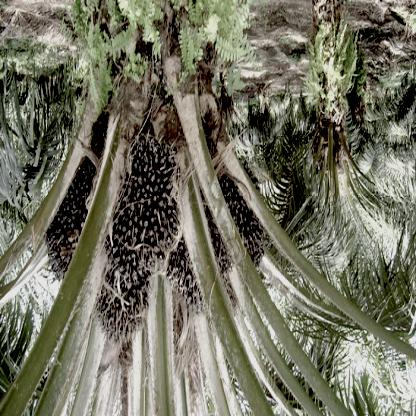palm-oil: (105, 135, 180, 272), (43, 159, 100, 283), (166, 224, 231, 307), (92, 265, 152, 344), (222, 178, 268, 274)
